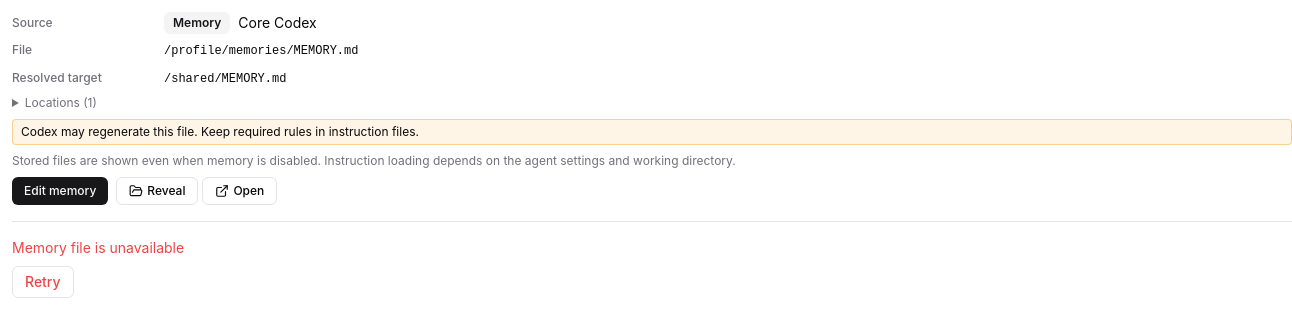
Test case: memory detail › retains a useful read failure and lets the user retry
Expected: the message "Memory file is unavailable Retry" is shown, [12,239,184,298]
Expected: the text "Memory file is unavailable" is shown, [12,239,184,256]
Click the button "Retry" at point(43, 282), box [12,266,74,298]
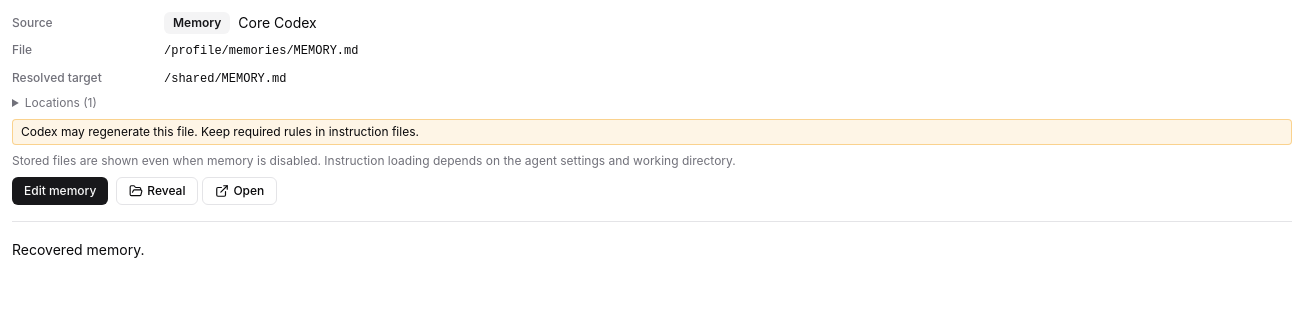
Expected: the text "Recovered memory." is shown, [12,241,144,258]
